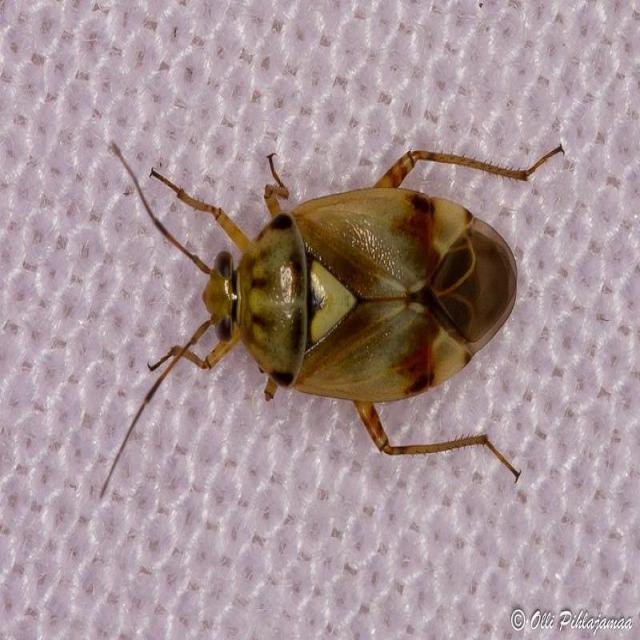Miridae-Adult-: (92, 123, 569, 496)
